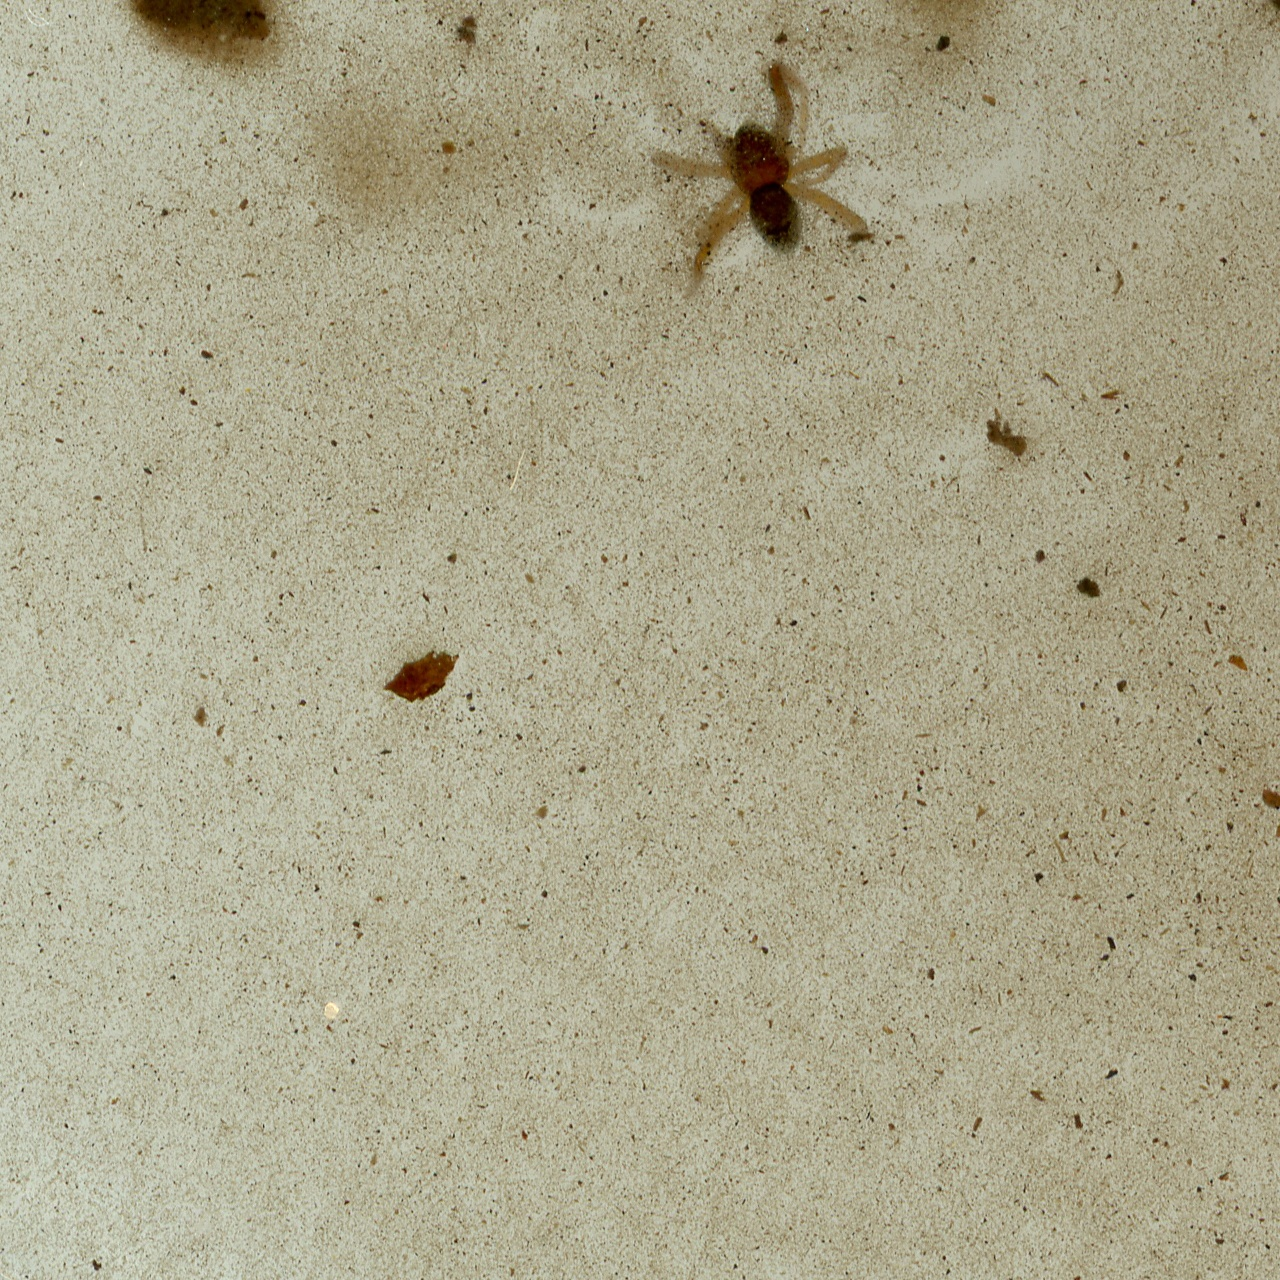arthropod: (648, 45, 879, 299)
